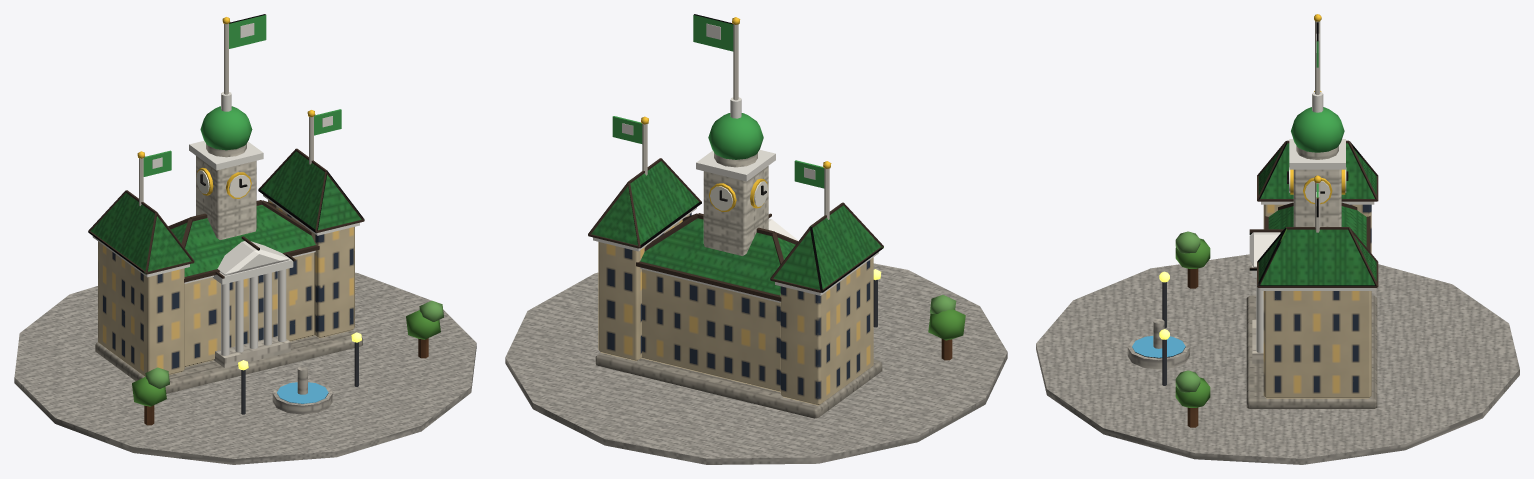
Rendered from residence_dl5_green.glb.
3 views of the same model, side by side, from view 1: azimuth 30°, elevation 25°; view 2: azimuth 150°, elevation 25°; view 3: azimuth 270°, elevation 25° (orthographic). The views are drawn at different scales.
Parts seen in each view (by area): view 1: residence_dl5_green; view 2: residence_dl5_green; view 3: residence_dl5_green.
Boxes of the visible parts, x1=… form: residence_dl5_green: x1=14, y1=14, x2=476, y2=464; residence_dl5_green: x1=505, y1=14, x2=1007, y2=464; residence_dl5_green: x1=1036, y1=14, x2=1519, y2=464.
Bounding box in the file's own units: 1.71 × 1.36 × 1.71.
Materials: 2 (1 with a texture image).
